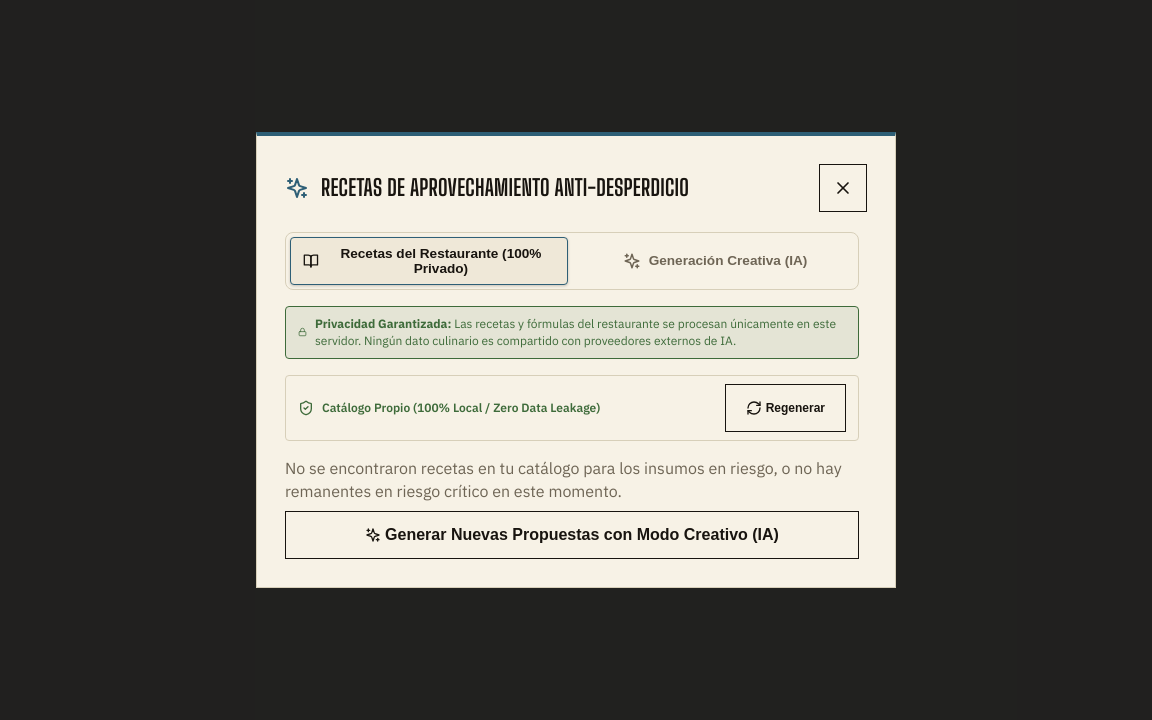
Test: TK-122-FE: RescueRecipesModal › TK-124-FE: Selector de Modo Dual y Zero Data Leakage › alterna a Modo Creativo (IA) al pulsar la pestaña y envía { mode: "CREATIVE" }
Expected: the text "No se encontraron recetas en tu catálogo" is shown, [285,458,842,501]
What coordinates should you click on to do the following:
click the tab "Generación Creativa (IA)"
I would click on:
 (715, 261)
Its box is [576,237,854,285].
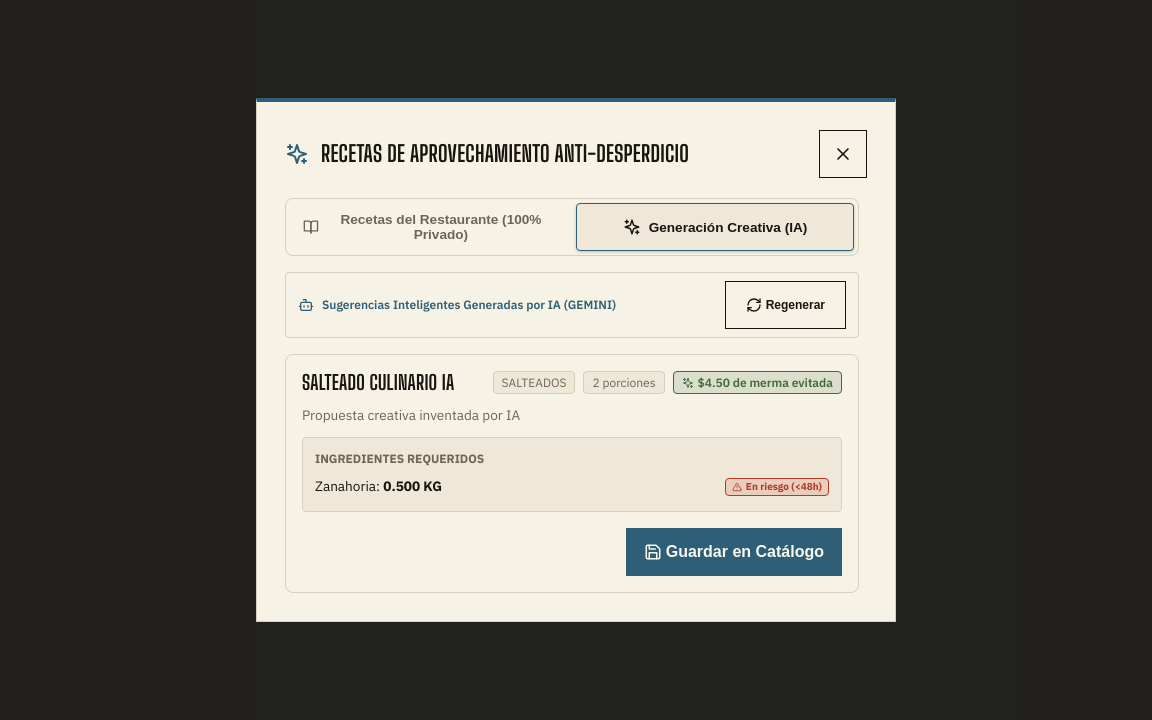
Result: the heading "Salteado Culinario IA" is shown at [302,371,454,394]
Result: the text "Sugerencias Inteligentes Generadas por IA (GEMINI)" is shown at [322,296,616,314]
